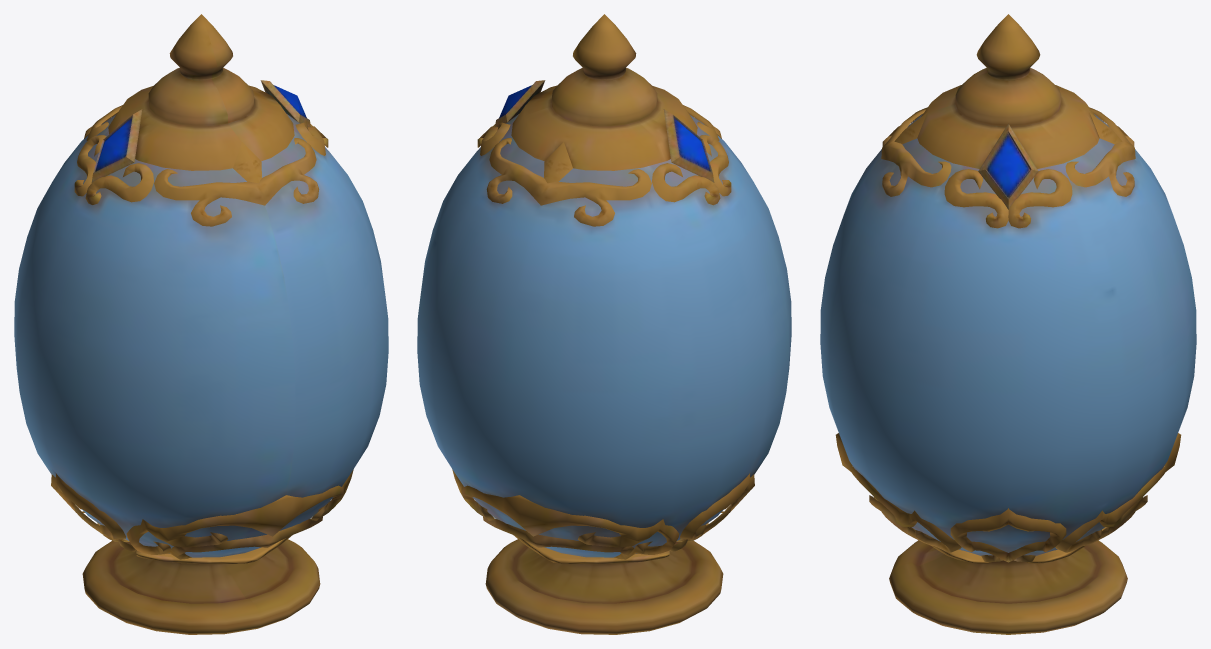
File: SM_EggHatchingMachine_9a5836.glb
3 renders of one model, left to right at view 1: azimuth 30°, elevation 25°; view 2: azimuth 150°, elevation 25°; view 3: azimuth 270°, elevation 25°, orthographic.
Size of the model in its own units: 1.04 by 1.75 by 1.04.
Materials: 2 (2 with a texture image).
